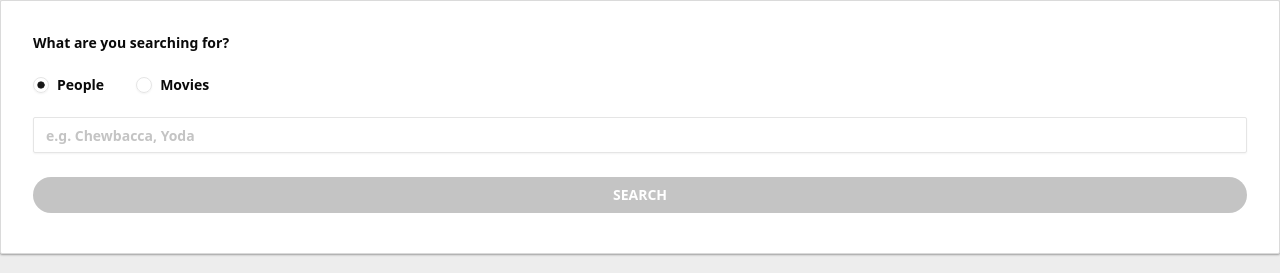
Test: SearchBox › should enable search button when input is not empty
Step 1. Type "Luke" into the field with placeholder "e.g. Chewbacca, Yoda" → (640, 135), box [33,117,1247,153]
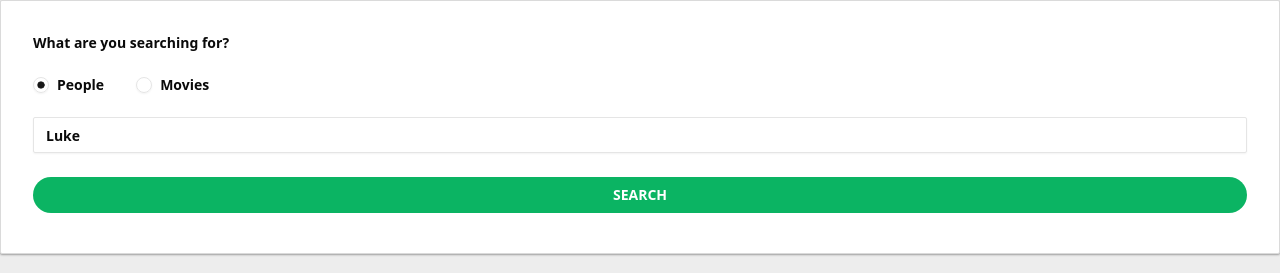
Expected: the button "Search" is enabled, [33,177,1247,213]
